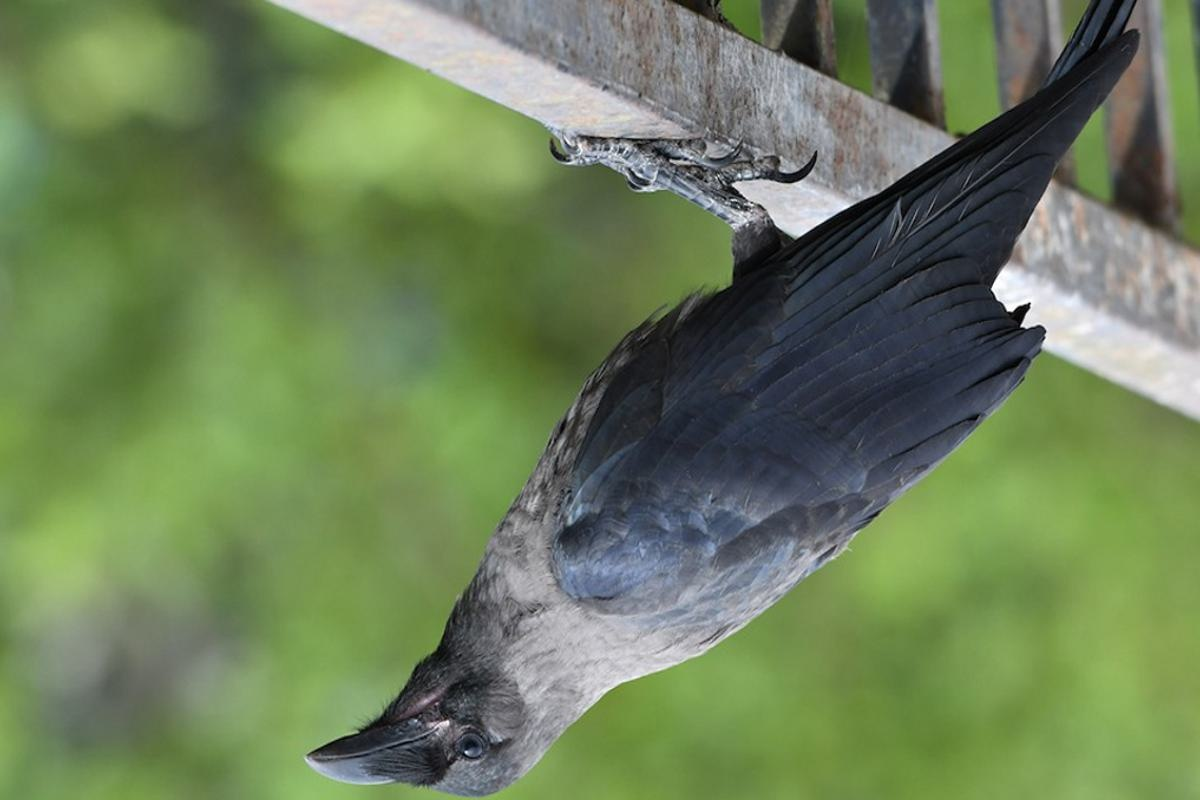crow: (294, 1, 1196, 797)
